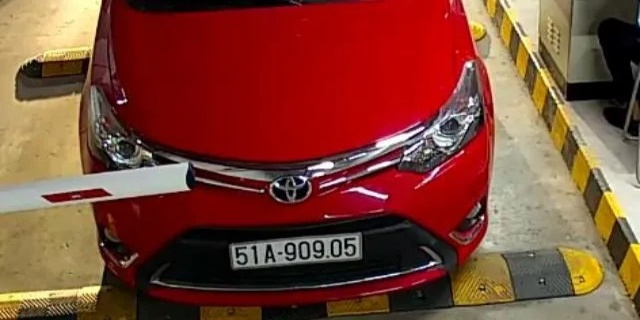bien_so: (233, 236, 361, 265)
